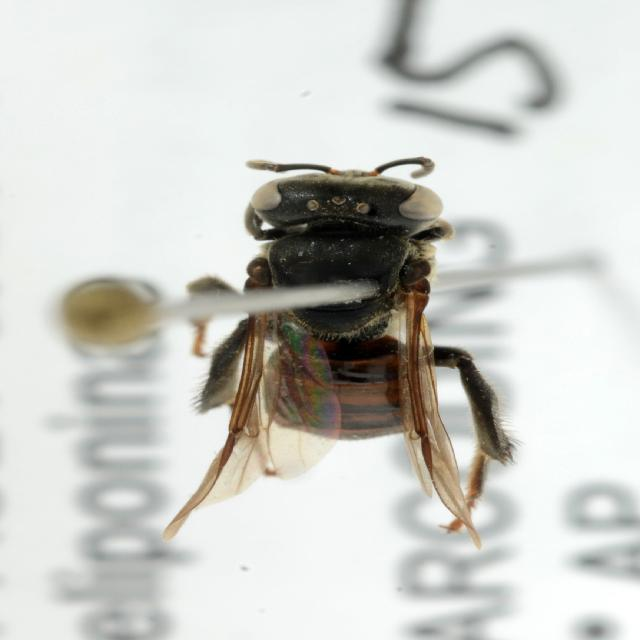Meliponula: (183, 148, 544, 571)
